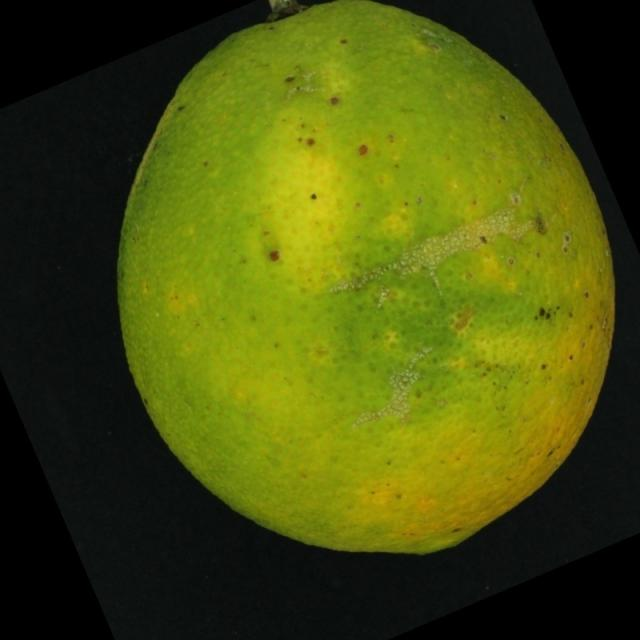grenning: (101, 6, 625, 567)
